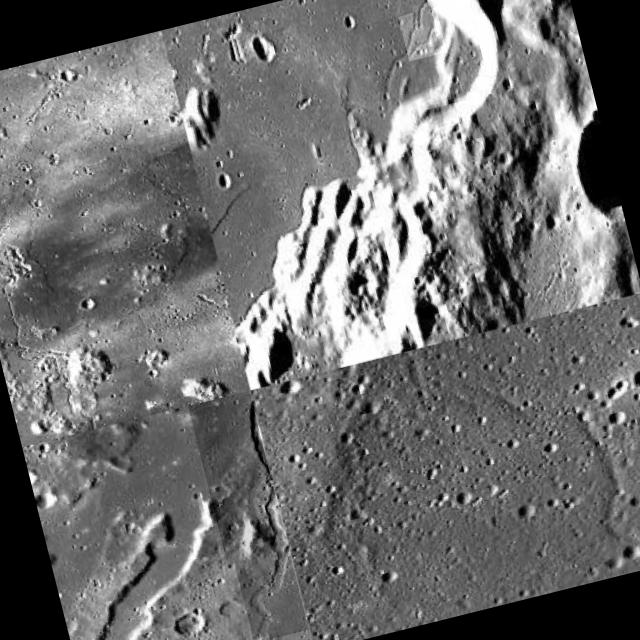rille: (356, 292, 640, 622), (0, 66, 152, 445), (196, 396, 308, 640), (188, 390, 290, 568), (362, 12, 436, 103), (398, 7, 447, 61), (412, 2, 432, 29)
